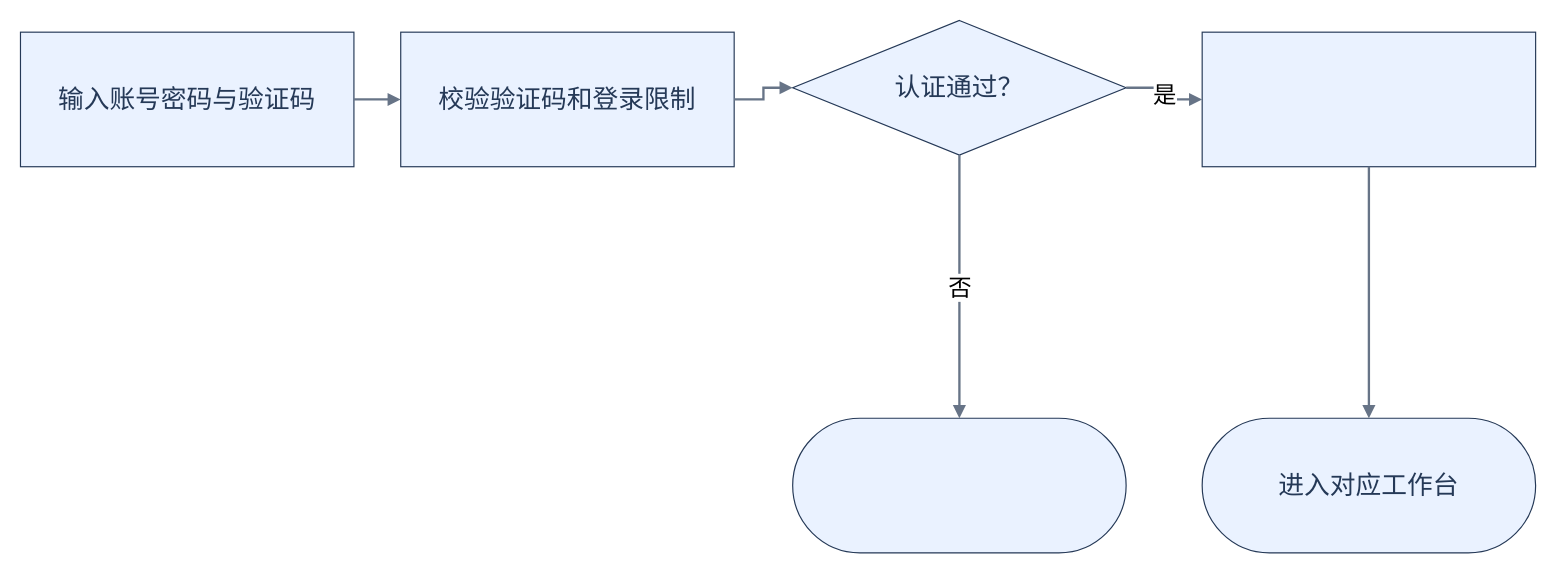
Image size: 1556x573. Some labels were removed from this diagram. Each missing label, with the centre of its shape:
提示失败并记录日志: point (959, 485)
签发 JWT 并识别角色: point (1368, 99)
